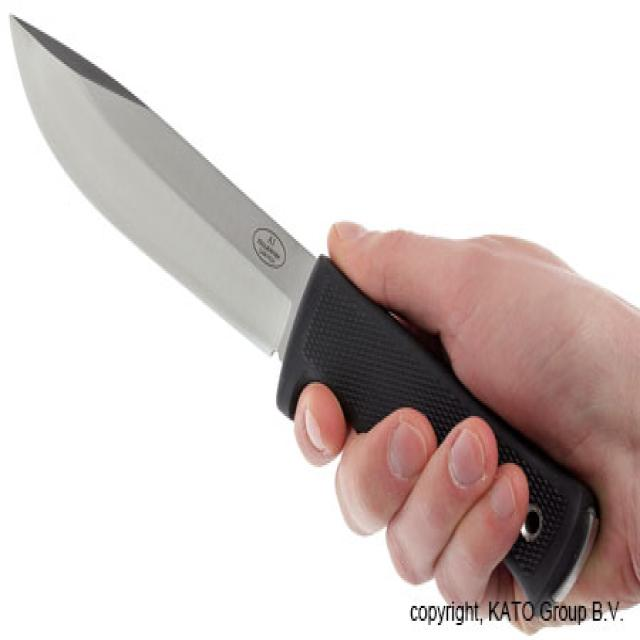knife: (6, 8, 348, 391)
